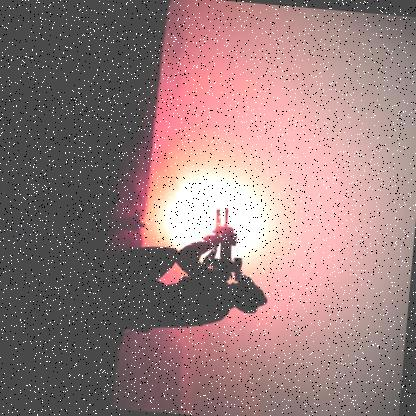rifle: (194, 203, 253, 289)
